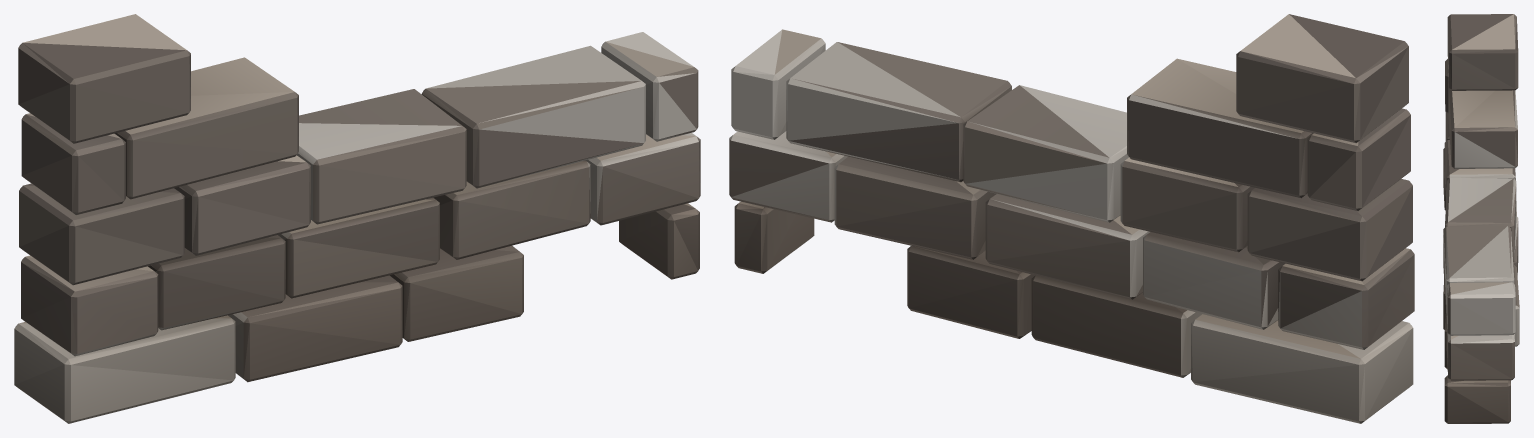
File: ash_wall_a.glb
The picture shows the model from 3 angles, left to right: view 1: azimuth 30°, elevation 25°; view 2: azimuth 150°, elevation 25°; view 3: azimuth 270°, elevation 25°; orthographic projection. The views are drawn at different scales.
Visible parts, largest first — view 1: ca_ash_wall_a; view 2: ca_ash_wall_a; view 3: ca_ash_wall_a.
Boxes of the visible parts, bbox=[...] form: ca_ash_wall_a: bbox=[14, 14, 700, 423]; ca_ash_wall_a: bbox=[729, 14, 1414, 423]; ca_ash_wall_a: bbox=[1443, 14, 1519, 423].
Bounding box in the file's own units: 4.01 × 2.07 × 0.6581.
1 material, 1 textured.
